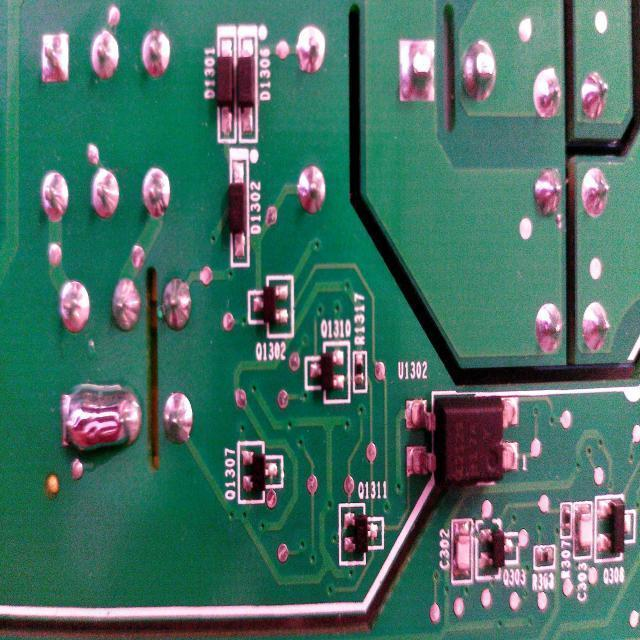Soldering shorted: (57, 381, 144, 464)
